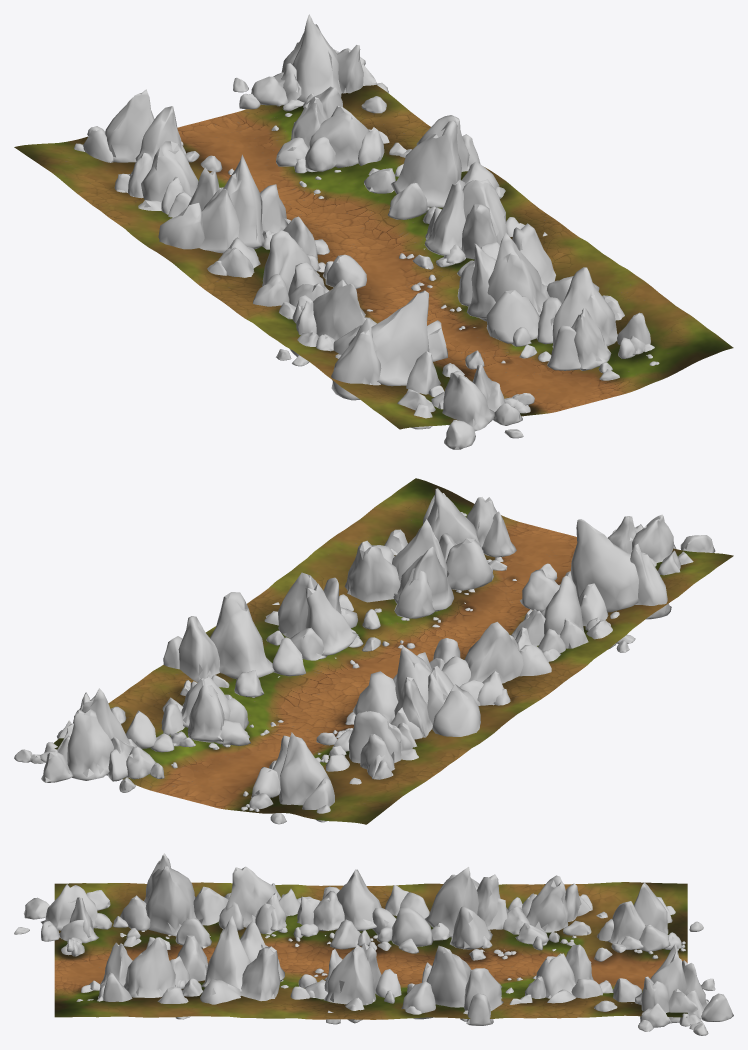
File: v1_mossy.fbx
3 views of the same model, one above another, from view 1: azimuth 30°, elevation 25°; view 2: azimuth 150°, elevation 25°; view 3: azimuth 270°, elevation 25° (orthographic). The views are drawn at different scales.
Parts seen in each view (by area): view 1: Terrain_Ground.007, Cliffs_East.007, Cliffs_West.007, Boulders_Medium.007; view 2: Terrain_Ground.007, Cliffs_East.007, Cliffs_West.007, Boulders_Medium.007, Stones_Scatter.007; view 3: Terrain_Ground.007, Cliffs_West.007, Cliffs_East.007, Boulders_Medium.007, Stones_Scatter.007.
Boxes of the visible parts, box(x1,y1,x2,y2) form: Terrain_Ground.007: box(14, 85, 733, 429); Cliffs_East.007: box(233, 14, 654, 373); Cliffs_West.007: box(74, 89, 534, 449); Boulders_Medium.007: box(114, 93, 645, 413); Terrain_Ground.007: box(54, 478, 733, 824); Cliffs_East.007: box(14, 488, 516, 792); Cliffs_West.007: box(251, 514, 715, 824); Boulders_Medium.007: box(110, 550, 680, 809); Stones_Scatter.007: box(171, 557, 516, 811); Terrain_Ground.007: box(54, 882, 687, 1019); Cliffs_West.007: box(14, 853, 703, 953); Cliffs_East.007: box(89, 916, 733, 1035); Boulders_Medium.007: box(61, 890, 681, 1014); Stones_Scatter.007: box(271, 927, 685, 980).
Bounding box in the file's own units: 2629 × 637 × 5460.
